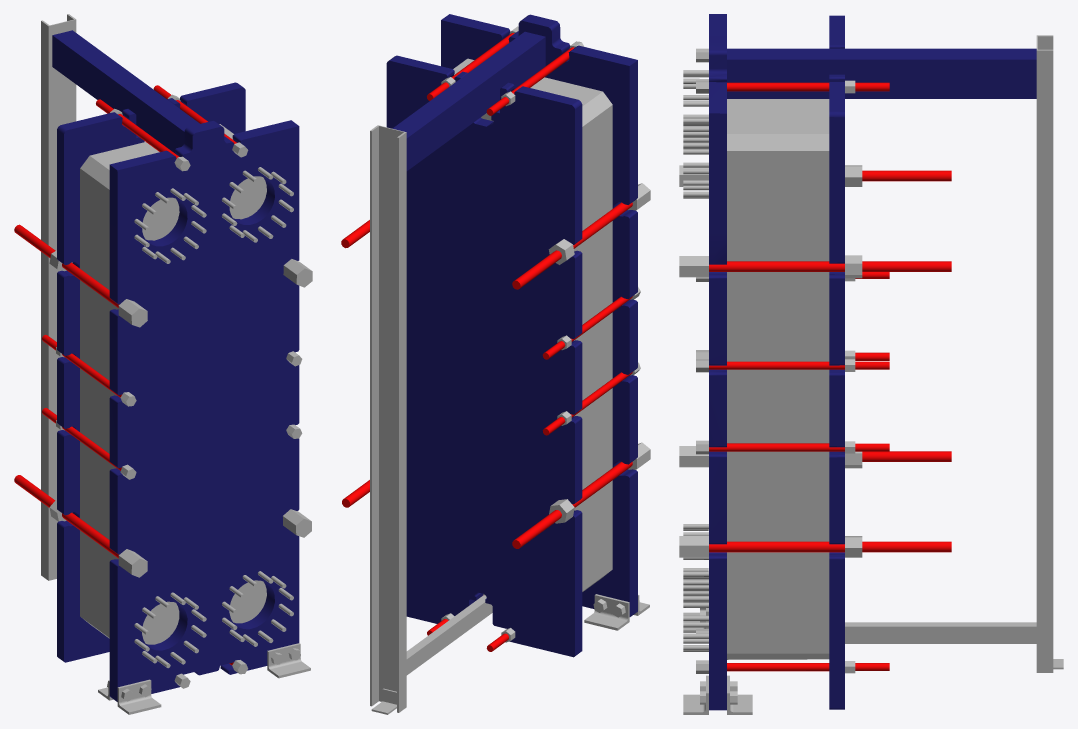
File: HVAC_Heat-Exchanger_Alfa-Laval_Alfa-Laval-T25.fbx
3 views of the same model, side by side, from view 1: azimuth 30°, elevation 25°; view 2: azimuth 150°, elevation 25°; view 3: azimuth 270°, elevation 25° (orthographic). The views are drawn at different scales.
Parts seen in each view (by area): view 1: Mesh_227_1c0dc337_2ef2_4403_9130_5afe7d55d4f4, Mesh_229_22fcab63_96b8_455e_996a_fc8af03dae57, Mesh_225_a2bb8f19_ef43_4fb9_bc10_5c1006b0fa39, Mesh_63_230cc843_b281_45db_af60_51e2352f0fd4, Mesh_49_2c99e523_3940_4ce6_ad2f_18991d4719dc, Mesh_221_7780b19e_d8ed_4e3e_8a9b_9a286d236a7d, Mesh_219_177a03fb_3782_4640_8304_d85210aa5797, Mesh_97_f7d245fa_2a15_4d57_bfed_ed5ae21a18ae, Mesh_11_433bd52a_30e2_4d15_abf4_e7f42e7bc2e6, Mesh_83_385c2b97_f6c7_44f7_83b5_33f272d96b46, Mesh_99_f650fc9a_5e85_47d3_8bdb_726b201c9722, Mesh_101_2c4d78e3_2782_4727_94c1_946309ee27b7 (+2 smaller); view 2: Mesh_225_a2bb8f19_ef43_4fb9_bc10_5c1006b0fa39, Mesh_63_230cc843_b281_45db_af60_51e2352f0fd4, Mesh_227_1c0dc337_2ef2_4403_9130_5afe7d55d4f4, Mesh_229_22fcab63_96b8_455e_996a_fc8af03dae57, Mesh_49_2c99e523_3940_4ce6_ad2f_18991d4719dc, Mesh_113_4a0d8d95_f164_4826_b764_50cd58d2f98f, Mesh_217_044e3961_75e1_42a6_9269_cefa861c3c3d, Mesh_11_433bd52a_30e2_4d15_abf4_e7f42e7bc2e6, Mesh_1_eccf5b86_c29a_4e87_b60e_a94a6f0f6f41, Mesh_45_7c82accc_7312_46dd_8f36_f1de77dda170, Mesh_41_45a8c27e_aff3_45a9_a244_cf2909471a13, Mesh_7_4fe4f39b_5fb8_4d8c_9098_83e030091e4f; view 3: Mesh_229_22fcab63_96b8_455e_996a_fc8af03dae57, Mesh_49_2c99e523_3940_4ce6_ad2f_18991d4719dc, Mesh_227_1c0dc337_2ef2_4403_9130_5afe7d55d4f4, Mesh_63_230cc843_b281_45db_af60_51e2352f0fd4, Mesh_225_a2bb8f19_ef43_4fb9_bc10_5c1006b0fa39, Mesh_113_4a0d8d95_f164_4826_b764_50cd58d2f98f, Mesh_17_9027947b_b661_4cf5_b5ef_a9d250da3a05, Mesh_23_e939b051_a45e_4091_bbed_c3a250b12368, Mesh_19_88e63803_d56a_4fc2_9ab7_74e70c10e2e2, Mesh_21_2b32e48d_a6e4_4599_ba07_48c11f13f99c, Mesh_41_45a8c27e_aff3_45a9_a244_cf2909471a13, Mesh_43_a8924b4f_895e_4ef5_9d3e_773e8af5e650 (+6 smaller).
Boxes of the visible parts, bbox=[...] form: Mesh_227_1c0dc337_2ef2_4403_9130_5afe7d55d4f4: bbox=[109, 120, 299, 701]; Mesh_229_22fcab63_96b8_455e_996a_fc8af03dae57: bbox=[80, 124, 266, 644]; Mesh_225_a2bb8f19_ef43_4fb9_bc10_5c1006b0fa39: bbox=[57, 82, 245, 662]; Mesh_63_230cc843_b281_45db_af60_51e2352f0fd4: bbox=[41, 14, 76, 580]; Mesh_49_2c99e523_3940_4ce6_ad2f_18991d4719dc: bbox=[52, 30, 199, 153]; Mesh_221_7780b19e_d8ed_4e3e_8a9b_9a286d236a7d: bbox=[117, 679, 161, 714]; Mesh_219_177a03fb_3782_4640_8304_d85210aa5797: bbox=[267, 643, 310, 678]; Mesh_97_f7d245fa_2a15_4d57_bfed_ed5ae21a18ae: bbox=[118, 299, 147, 327]; Mesh_11_433bd52a_30e2_4d15_abf4_e7f42e7bc2e6: bbox=[62, 512, 118, 558]; Mesh_83_385c2b97_f6c7_44f7_83b5_33f272d96b46: bbox=[283, 259, 312, 287]; Mesh_99_f650fc9a_5e85_47d3_8bdb_726b201c9722: bbox=[118, 549, 147, 577]; Mesh_101_2c4d78e3_2782_4727_94c1_946309ee27b7: bbox=[282, 509, 311, 537]; Mesh_225_a2bb8f19_ef43_4fb9_bc10_5c1006b0fa39: bbox=[386, 55, 582, 657]; Mesh_63_230cc843_b281_45db_af60_51e2352f0fd4: bbox=[370, 125, 406, 712]; Mesh_227_1c0dc337_2ef2_4403_9130_5afe7d55d4f4: bbox=[441, 14, 637, 616]; Mesh_229_22fcab63_96b8_455e_996a_fc8af03dae57: bbox=[453, 58, 612, 595]; Mesh_49_2c99e523_3940_4ce6_ad2f_18991d4719dc: bbox=[393, 31, 545, 170]; Mesh_113_4a0d8d95_f164_4826_b764_50cd58d2f98f: bbox=[406, 595, 492, 675]; Mesh_217_044e3961_75e1_42a6_9269_cefa861c3c3d: bbox=[584, 594, 629, 630]; Mesh_11_433bd52a_30e2_4d15_abf4_e7f42e7bc2e6: bbox=[572, 461, 632, 507]; Mesh_1_eccf5b86_c29a_4e87_b60e_a94a6f0f6f41: bbox=[573, 202, 632, 248]; Mesh_45_7c82accc_7312_46dd_8f36_f1de77dda170: bbox=[512, 510, 561, 548]; Mesh_41_45a8c27e_aff3_45a9_a244_cf2909471a13: bbox=[512, 250, 561, 289]; Mesh_7_4fe4f39b_5fb8_4d8c_9098_83e030091e4f: bbox=[511, 47, 573, 93]; Mesh_229_22fcab63_96b8_455e_996a_fc8af03dae57: bbox=[727, 99, 829, 659]; Mesh_49_2c99e523_3940_4ce6_ad2f_18991d4719dc: bbox=[727, 48, 1036, 98]; Mesh_227_1c0dc337_2ef2_4403_9130_5afe7d55d4f4: bbox=[709, 14, 726, 710]; Mesh_63_230cc843_b281_45db_af60_51e2352f0fd4: bbox=[1036, 35, 1053, 672]; Mesh_225_a2bb8f19_ef43_4fb9_bc10_5c1006b0fa39: bbox=[829, 15, 844, 709]; Mesh_113_4a0d8d95_f164_4826_b764_50cd58d2f98f: bbox=[845, 622, 1036, 643]; Mesh_17_9027947b_b661_4cf5_b5ef_a9d250da3a05: bbox=[709, 541, 844, 552]; Mesh_23_e939b051_a45e_4091_bbed_c3a250b12368: bbox=[709, 261, 844, 271]; Mesh_19_88e63803_d56a_4fc2_9ab7_74e70c10e2e2: bbox=[709, 443, 844, 451]; Mesh_21_2b32e48d_a6e4_4599_ba07_48c11f13f99c: bbox=[709, 361, 844, 369]; Mesh_41_45a8c27e_aff3_45a9_a244_cf2909471a13: bbox=[862, 170, 951, 181]; Mesh_43_a8924b4f_895e_4ef5_9d3e_773e8af5e650: bbox=[862, 541, 951, 552].
Bounding box in the file's own units: 917 × 1490 × 2661.
